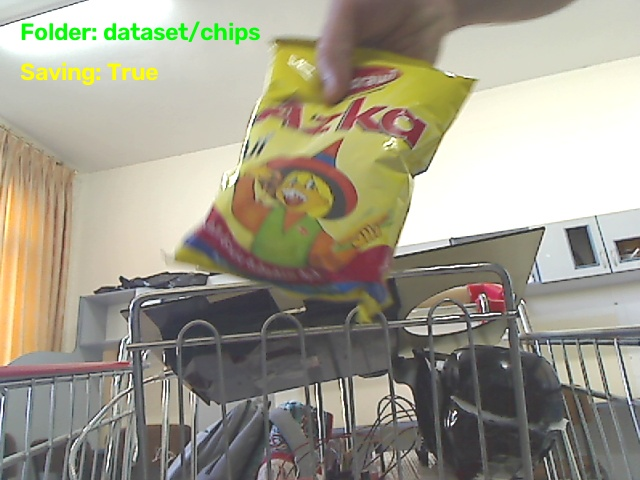chips: (176, 40, 474, 321)
